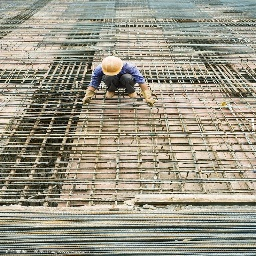helmet: (100, 57, 126, 77)
person: (82, 55, 157, 105)
